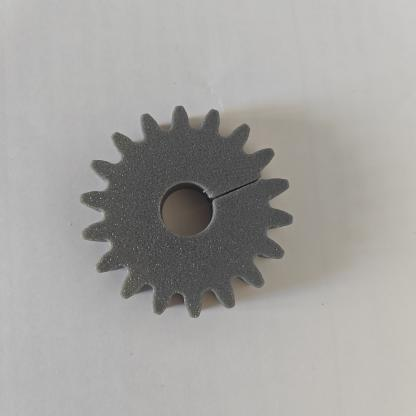defect: (187, 154, 293, 246)
gear: (65, 93, 313, 355)
